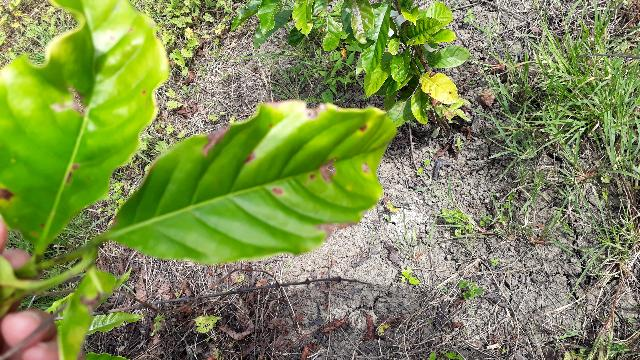red_spider_mite: (109, 98, 398, 262)
